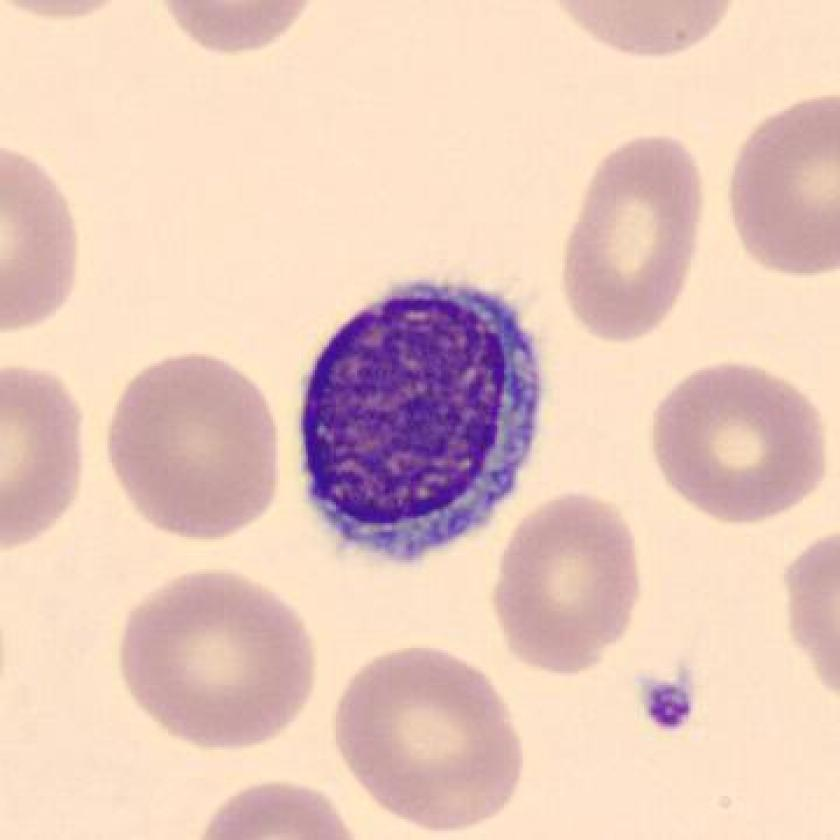lymphocyte: (281, 253, 559, 582)
